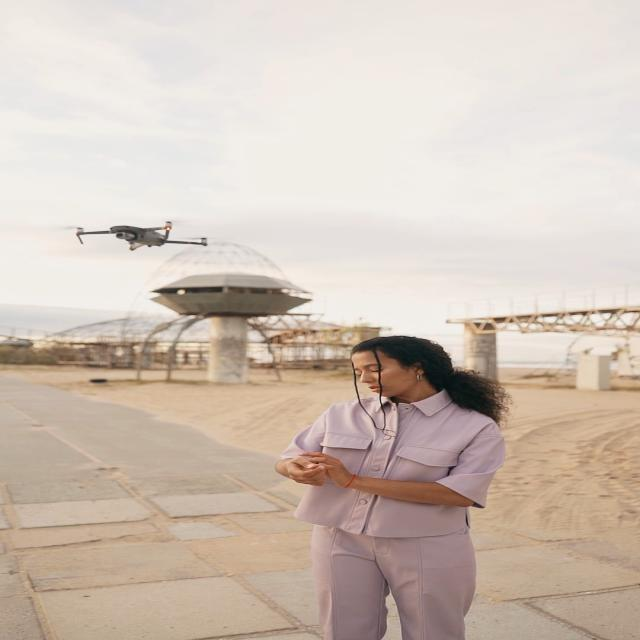Drone: (58, 216, 205, 256)
